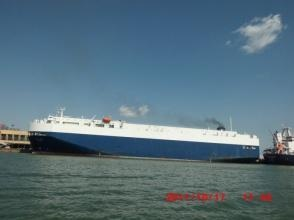Cargoship: (27, 100, 261, 160)
